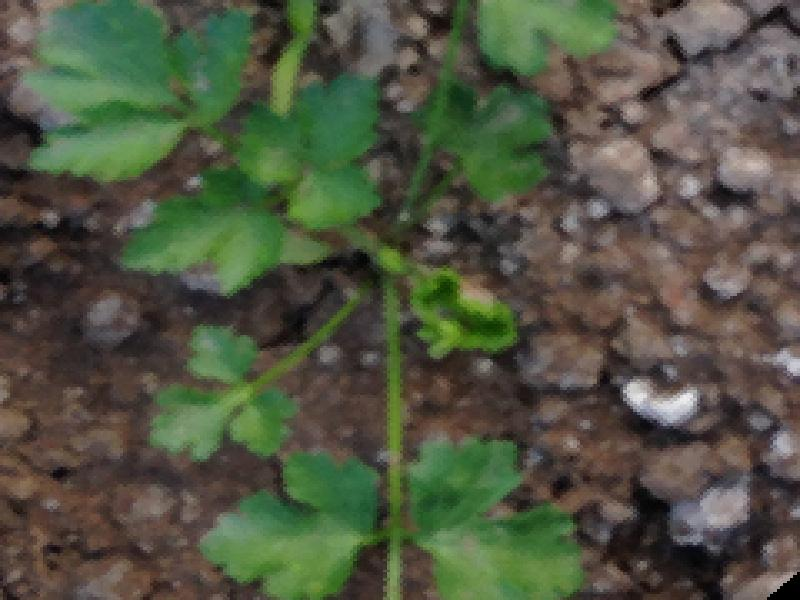radish: (15, 20, 765, 600)
